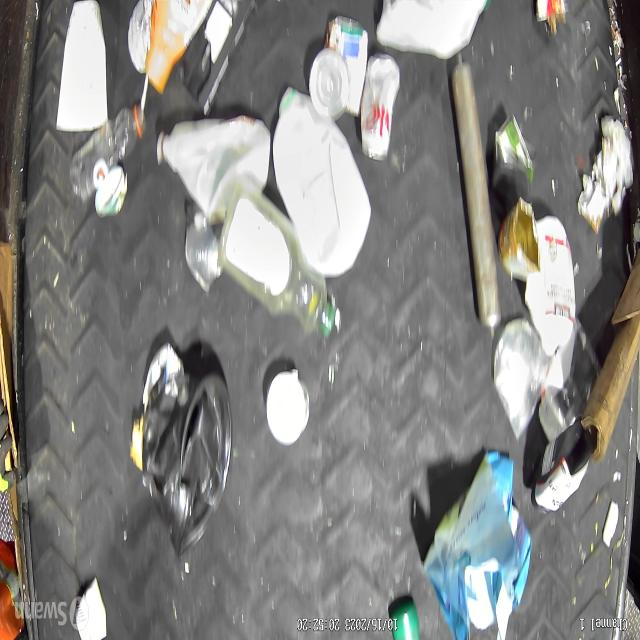can: (360, 52, 399, 161), (497, 197, 542, 284), (308, 49, 350, 121)
milk_jug: (273, 85, 372, 278), (162, 115, 271, 228)
non_white_jug: (142, 374, 231, 556)
plastic_bottle: (70, 102, 146, 202)
